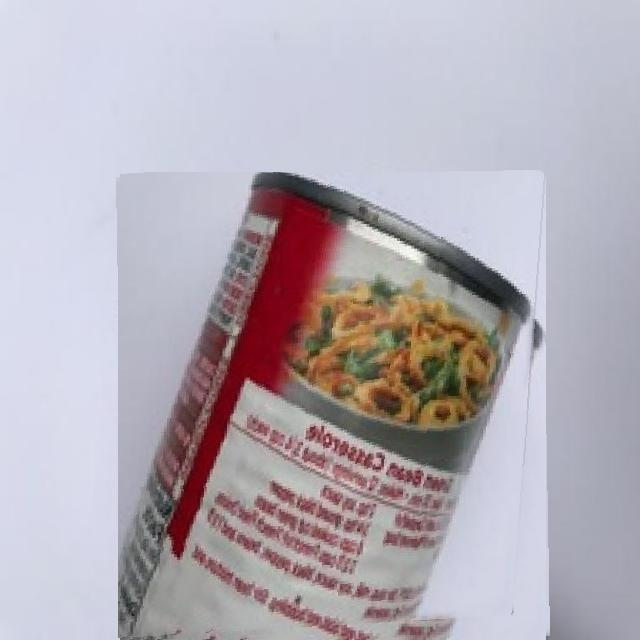recyclable: (118, 172, 548, 640)
